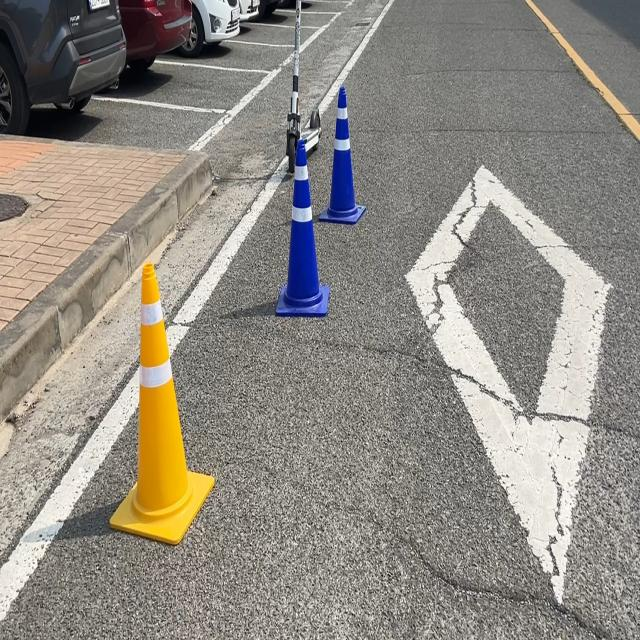b_rub: (276, 139, 329, 315), (319, 85, 366, 223)
y_rub: (109, 263, 214, 545)
